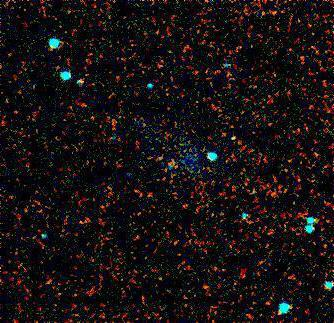star: (219, 123, 249, 153)
